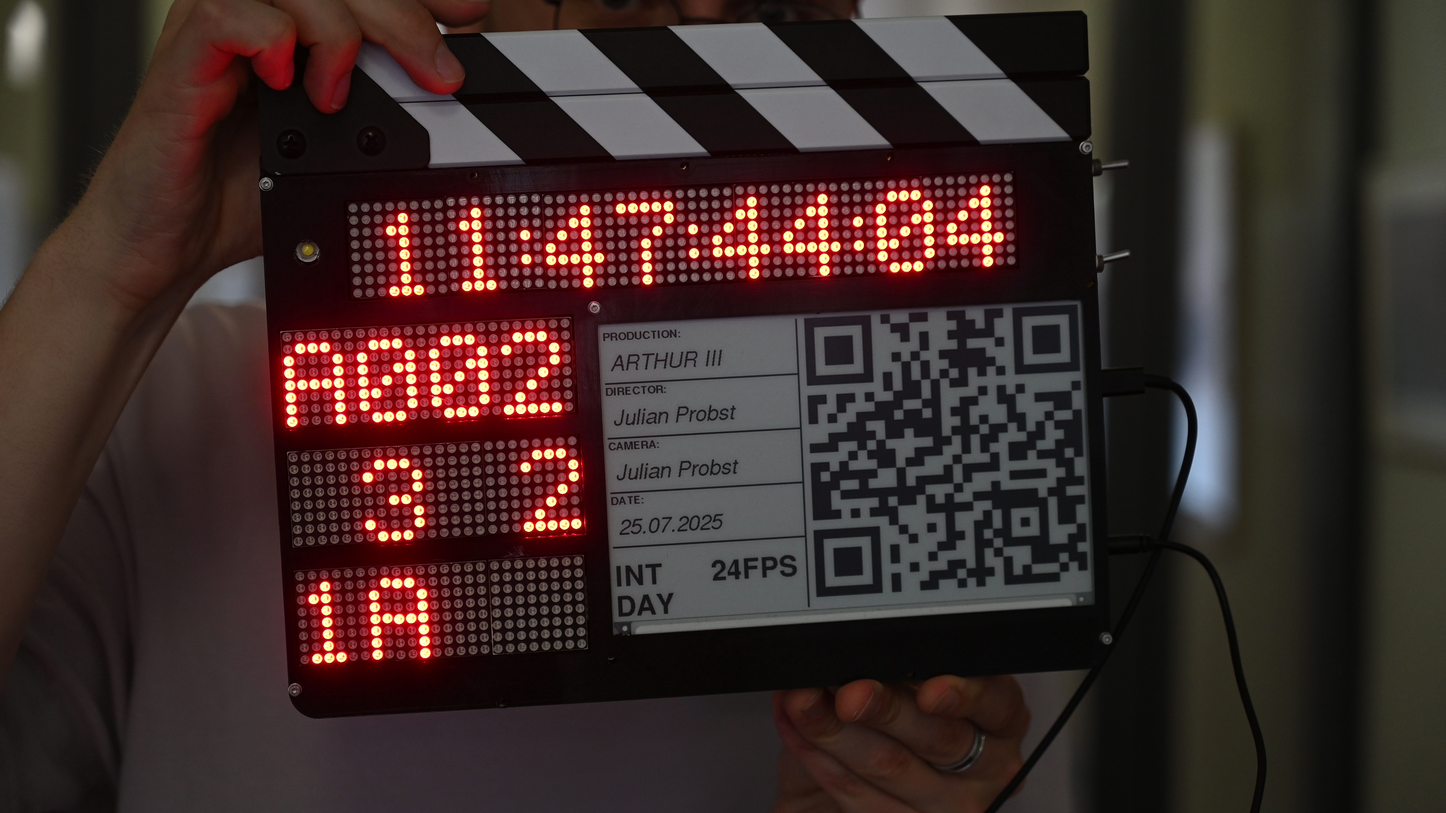ARC-SLATE: (255, 73, 1114, 725)
